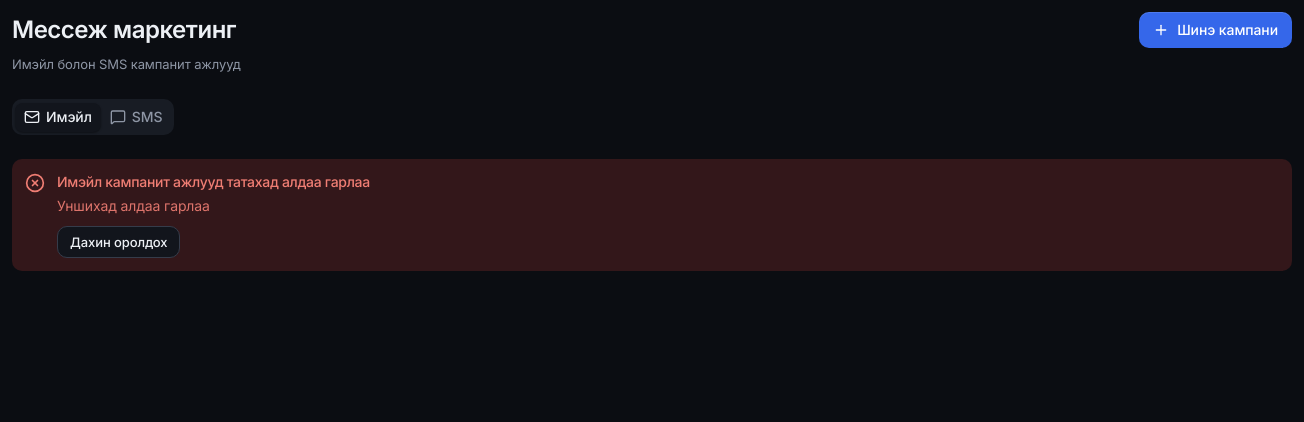
Test case: messaging › shows a failed tab read as an error with retry
Check: the text "Имэйл кампанит ажлууд татахад алдаа гарлаа" is shown, box [57,173,370,190]
Check: the text "Илгээсэн" is not shown
Click the button "Дахин оролдох" at (119, 242), box [57,226,180,258]
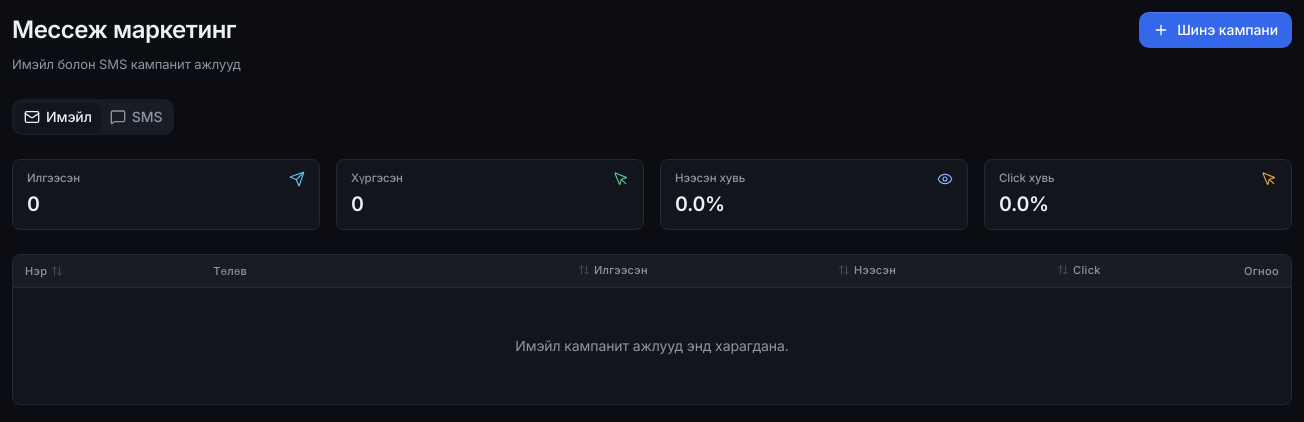
Check: the text "Имэйл кампанит ажлууд энд харагдана." is shown, box [13,288,1291,404]
